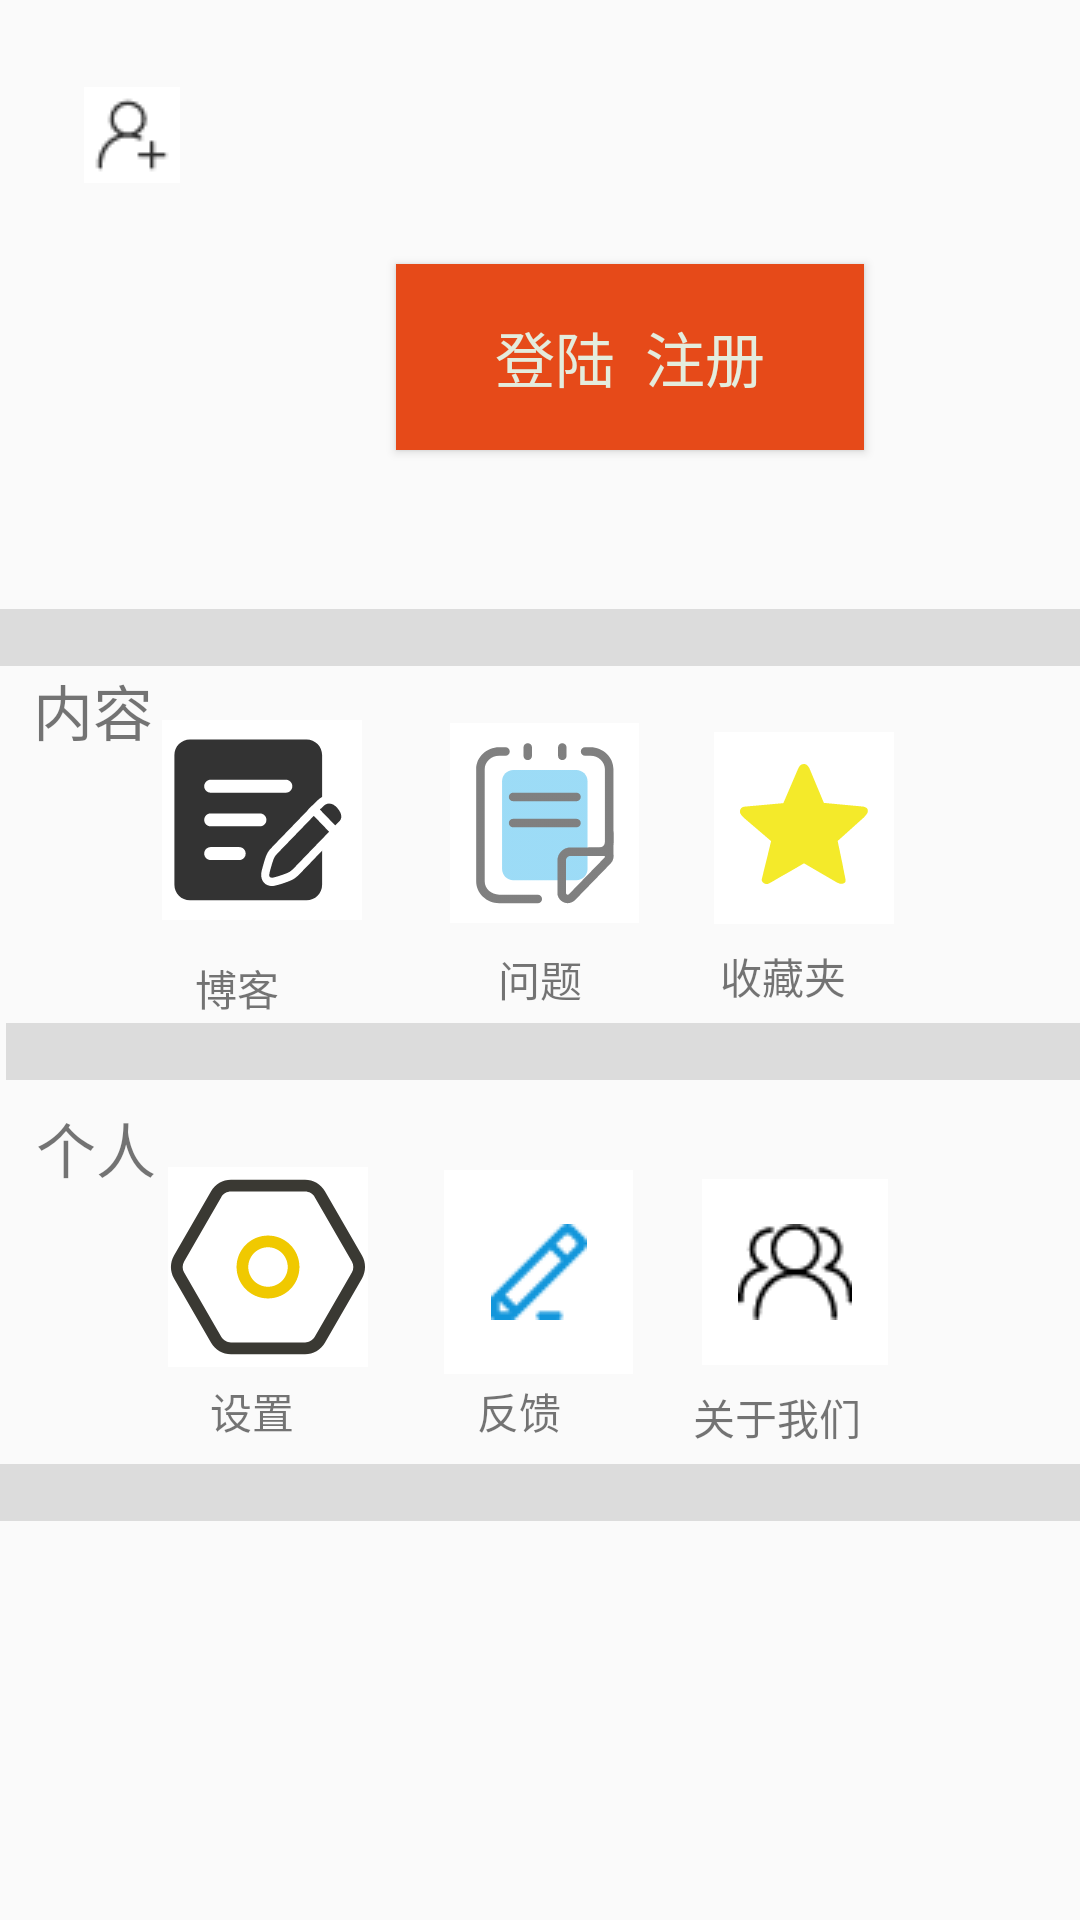

Icons on this 1080×1920 Android screen, each with the point to tap as (x,y):
aboutus: (795,1272)
addfriend: (132,135)
boke: (258,820)
fankui: (539,1272)
shoucangjia: (804,824)
tiezi: (545,823)
